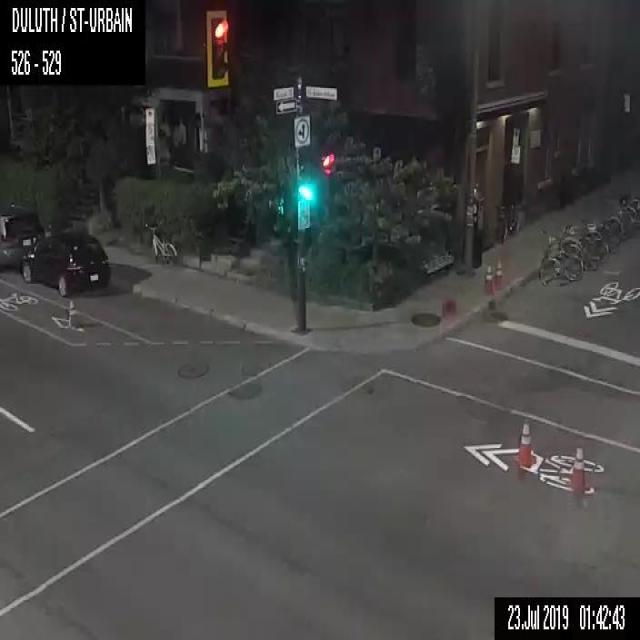construction: (516, 421, 533, 468), (569, 447, 586, 488), (66, 298, 76, 326), (441, 297, 455, 316), (493, 257, 501, 290), (484, 266, 492, 292)
vehicle: (21, 230, 110, 296), (0, 201, 45, 270)
